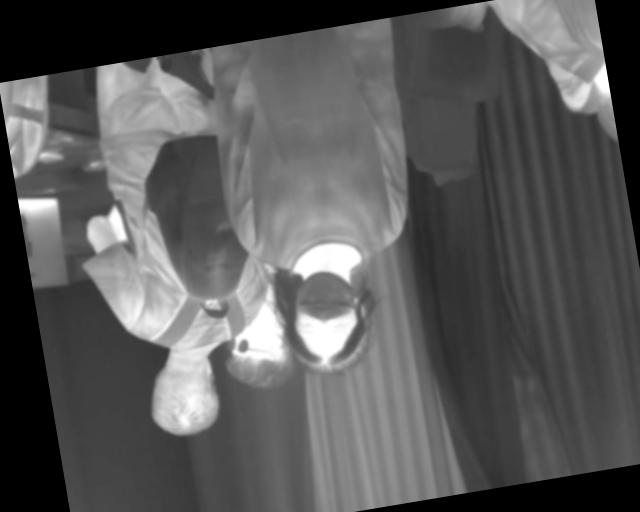face: (286, 265, 373, 377)
